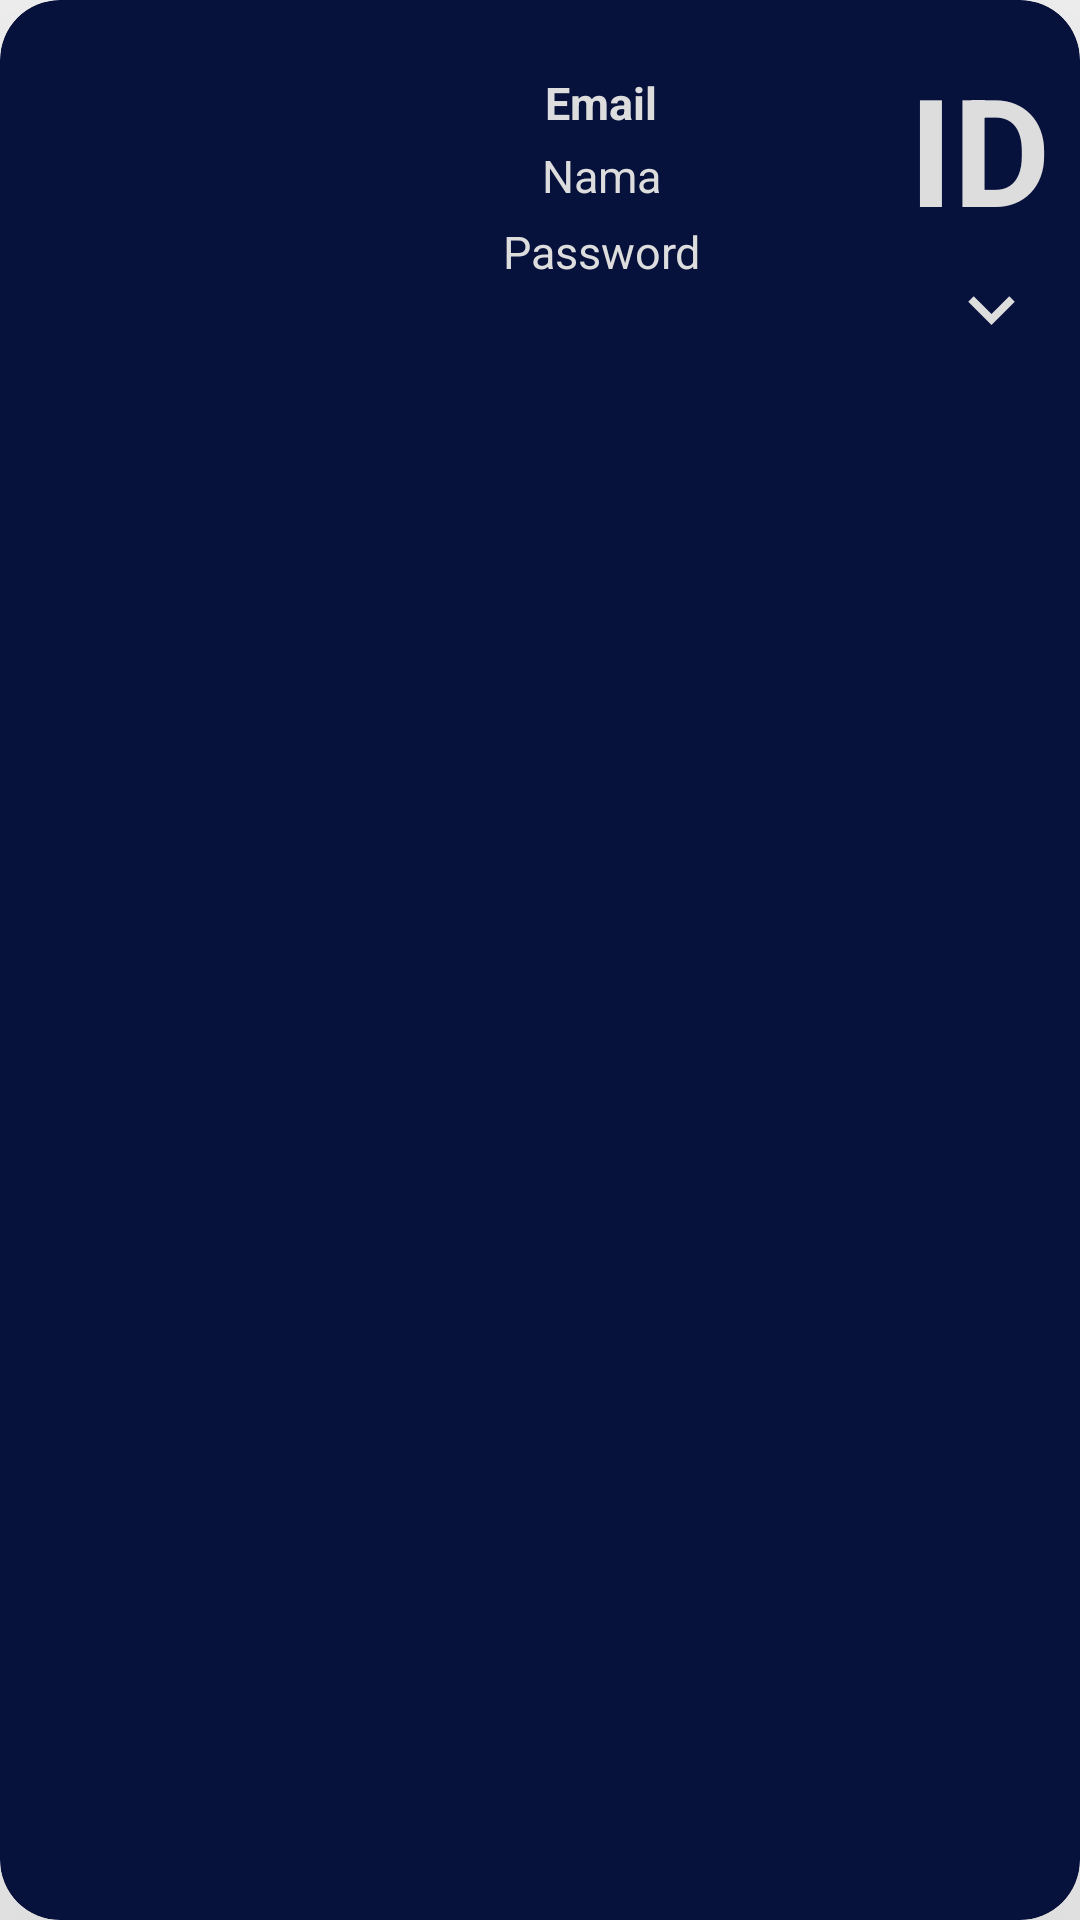

Locate icon controls on the screen. Image size 1080 × 1920, boxes as bbox=[x1, y1, x2, y2].
down: bbox=[968, 296, 1015, 325]
